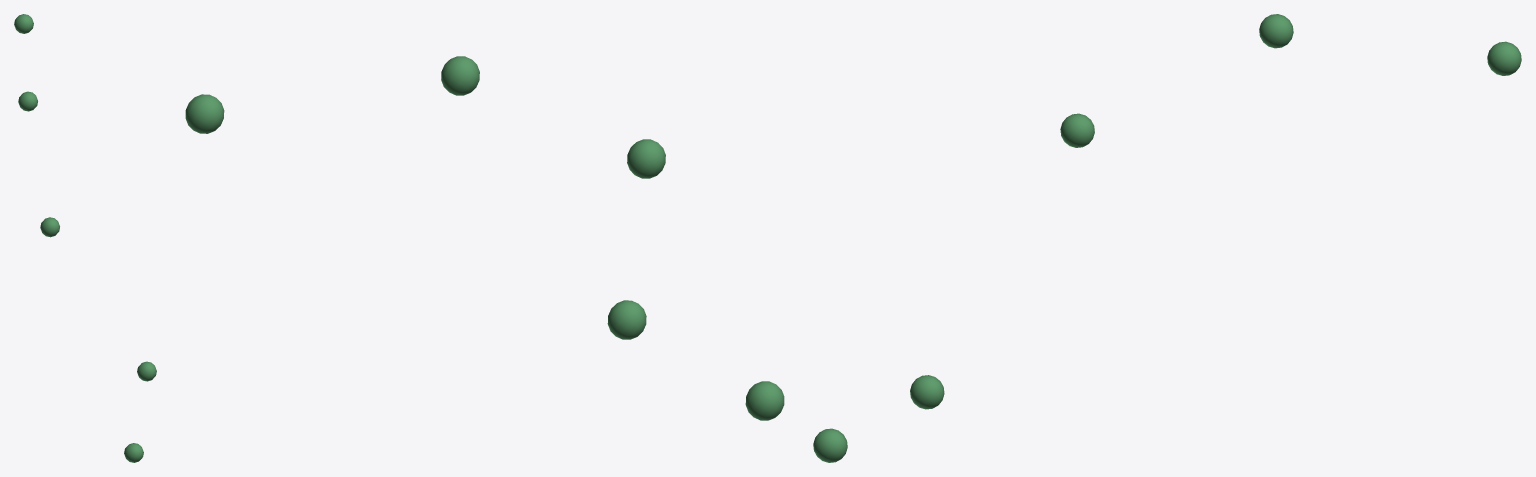
3 views of the same model, side by side, from view 1: azimuth 30°, elevation 25°; view 2: azimuth 150°, elevation 25°; view 3: azimuth 270°, elevation 25° (orthographic). The views are drawn at different scales.
Visible parts, largest first — view 1: 右侧骶外侧淋巴结; view 2: 右侧骶外侧淋巴结; view 3: 右侧骶外侧淋巴结.
Part boxes in pixels (left/top/right/bottom): 右侧骶外侧淋巴结: left=14, top=14, right=156, bottom=462; 右侧骶外侧淋巴结: left=185, top=56, right=784, bottom=420; 右侧骶外侧淋巴结: left=813, top=14, right=1521, bottom=462.
Bounding box in the file's own units: 0.0252 × 0.0598 × 0.0783.
